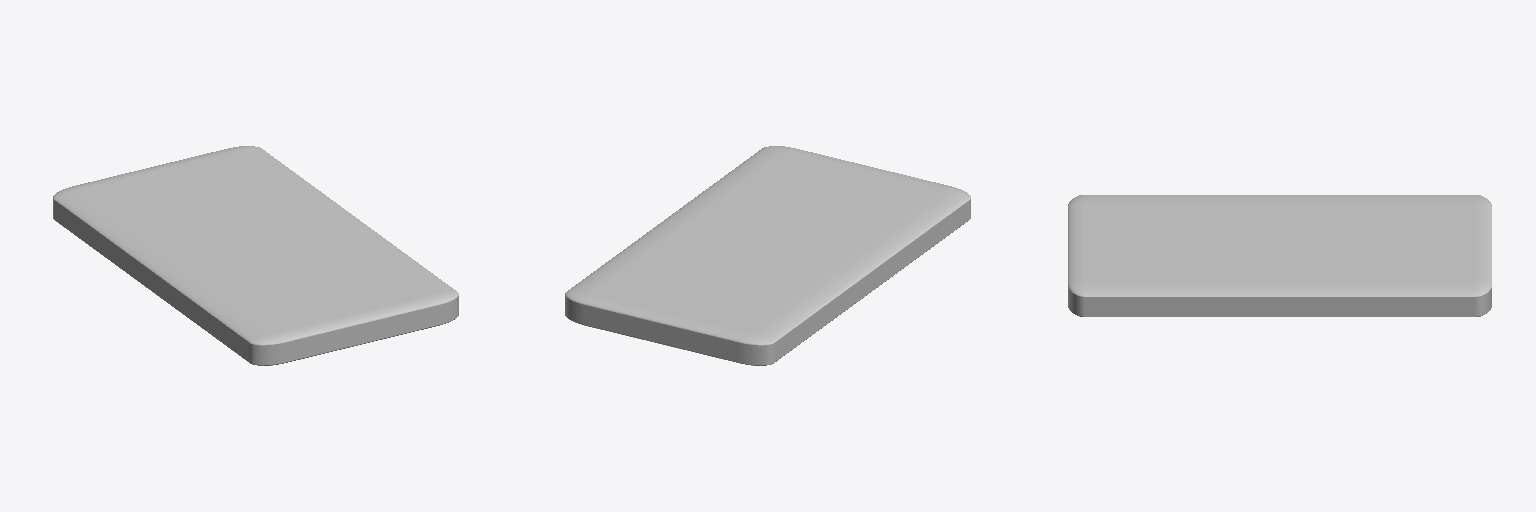
File: LipoBattery.obj
The picture shows the model from 3 angles: view 1: azimuth 30°, elevation 25°; view 2: azimuth 150°, elevation 25°; view 3: azimuth 270°, elevation 25°; orthographic projection.
Parts seen in each view (by area): view 1: Cube.001; view 2: Cube.001; view 3: Cube.001.
Boxes of the visible parts, <box> form: Cube.001: <box>53,146,458,365</box>; Cube.001: <box>565,146,970,365</box>; Cube.001: <box>1068,195,1491,316</box>.
Size of the model in its own units: 4.46 by 0.5631 by 7.88.